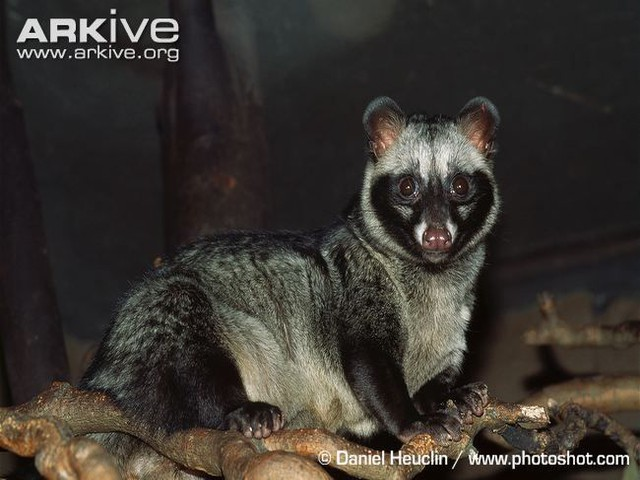civet: (88, 93, 515, 444)
